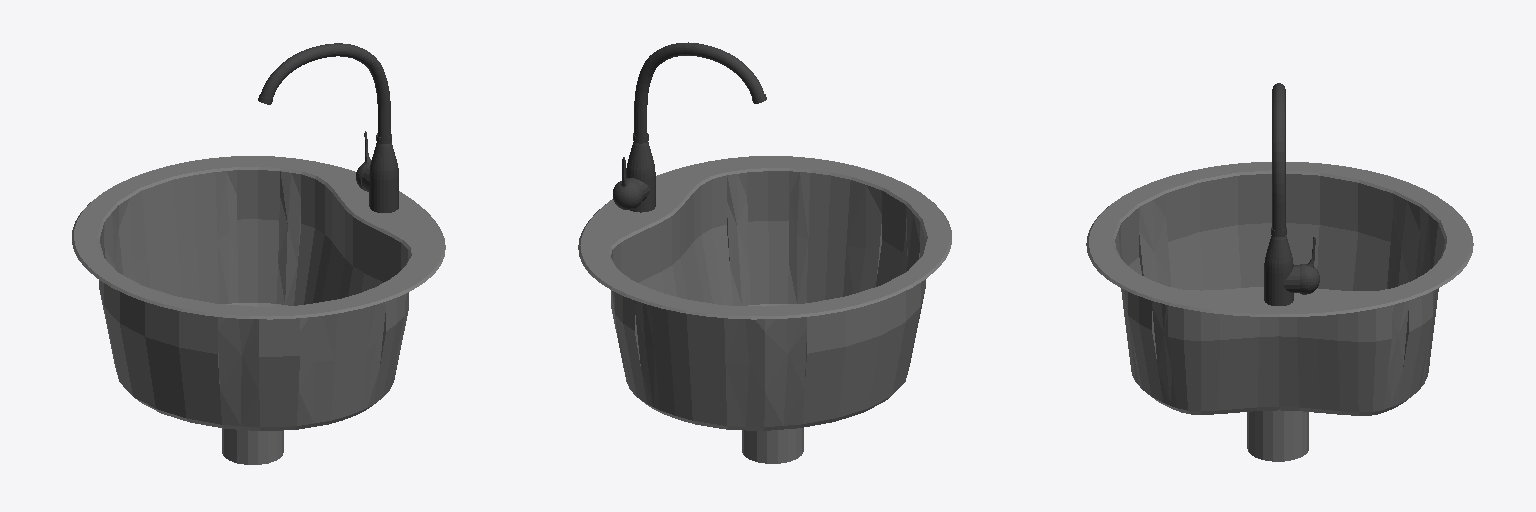
The model's file is KitchenSink.obj.
The picture shows the model from 3 angles: view 1: azimuth 30°, elevation 25°; view 2: azimuth 150°, elevation 25°; view 3: azimuth 270°, elevation 25°; orthographic projection.
Parts seen in each view (by area): view 1: iieea, Loft01; view 2: iieea, Loft01; view 3: iieea, Loft01.
Part boxes in pixels (x1,y1,x2,y2): iieea: (72,156,445,464); Loft01: (258,43,398,212); iieea: (578,156,951,463); Loft01: (613,42,766,212); iieea: (1086,162,1473,461); Loft01: (1264,83,1319,305).
Size of the model in its own units: 18.61 by 21.83 by 19.69.